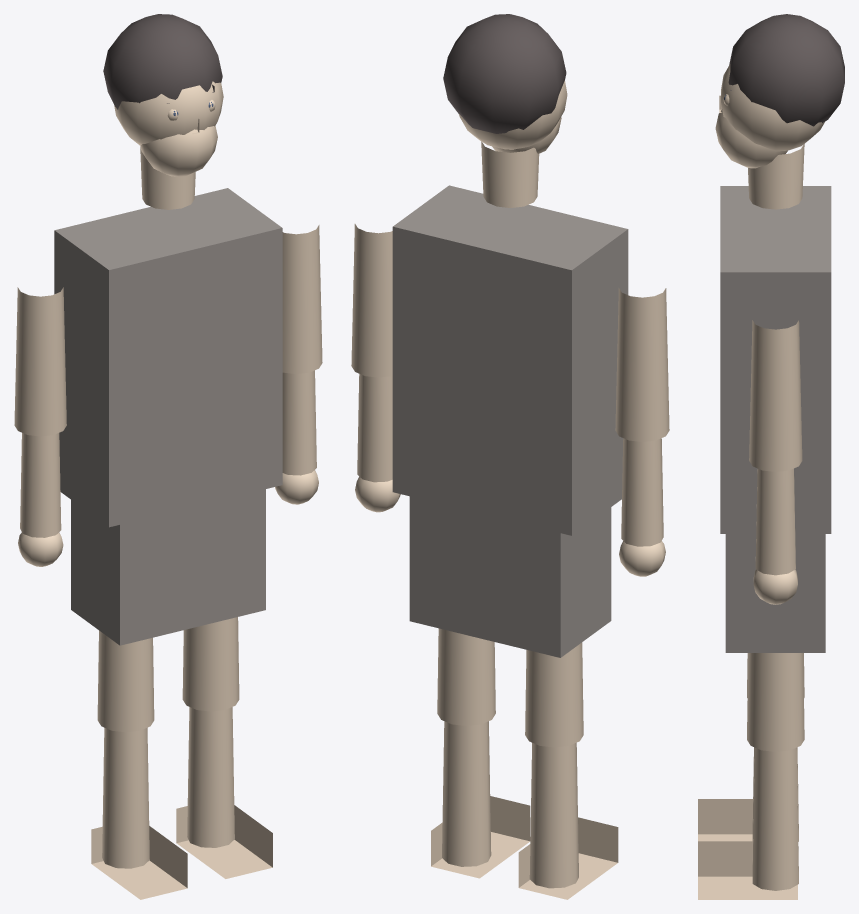
Rendered from body.glb.
3 renders of one model, left to right at view 1: azimuth 30°, elevation 25°; view 2: azimuth 150°, elevation 25°; view 3: azimuth 270°, elevation 25°, orthographic. The views are drawn at different scales.
Parts seen in each view (by area): view 1: Cloth, Skin, Hair; view 2: Cloth, Skin, Hair; view 3: Skin, Cloth, Hair.
Boxes of the visible parts, bbox=[...] form: Cloth: bbox=[54, 188, 282, 645]; Skin: bbox=[14, 81, 322, 899]; Hair: bbox=[103, 14, 222, 109]; Cloth: bbox=[392, 185, 628, 657]; Skin: bbox=[351, 80, 669, 899]; Hair: bbox=[443, 14, 566, 133]; Skin: bbox=[698, 64, 825, 899]; Cloth: bbox=[720, 186, 831, 652]; Hair: bbox=[728, 14, 844, 126].
Bounding box in the file's own units: 0.6369 × 1.68 × 0.2646.
